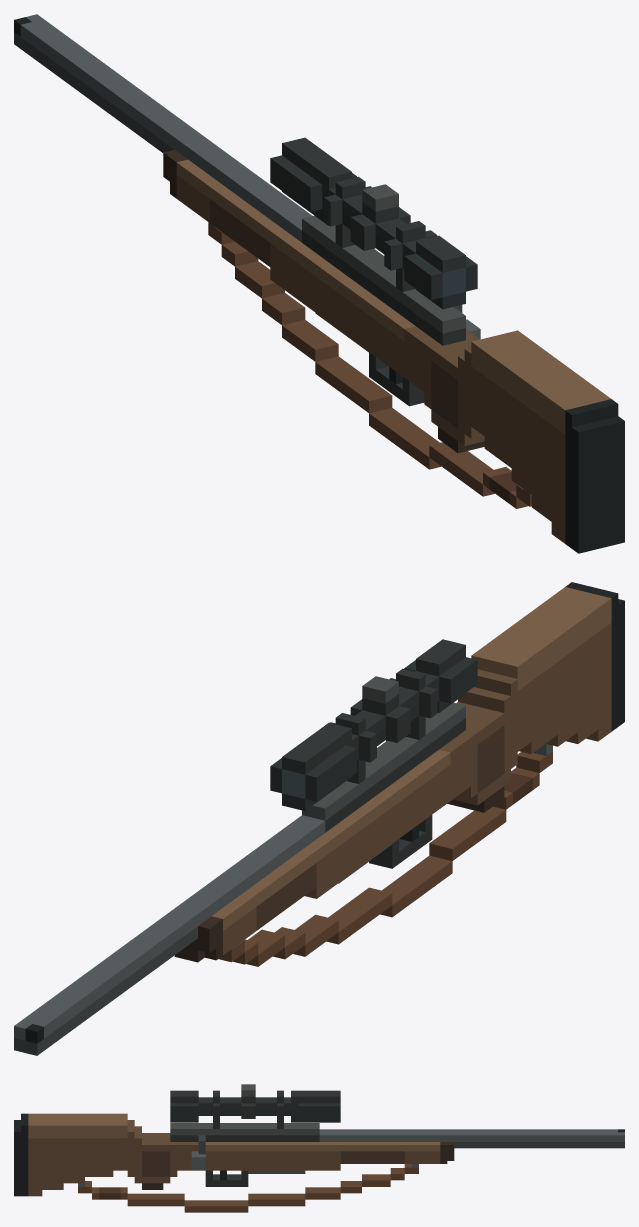
Rendered from Claude_hunting_rifle.glb.
3 renders of one model, top to bottom at view 1: azimuth 30°, elevation 25°; view 2: azimuth 150°, elevation 25°; view 3: azimuth 270°, elevation 25°, orthographic. The views are drawn at different scales.
Parts seen in each view (by area): view 1: Claude_hunting_rifle; view 2: Claude_hunting_rifle; view 3: Claude_hunting_rifle.
Part boxes in pixels (x1=…): Claude_hunting_rifle: x1=14, y1=14, x2=624, y2=553; Claude_hunting_rifle: x1=14, y1=582, x2=624, y2=1055; Claude_hunting_rifle: x1=14, y1=1084, x2=624, y2=1212.
Size of the model in its own units: 0.075 by 0.2375 by 1.08.
